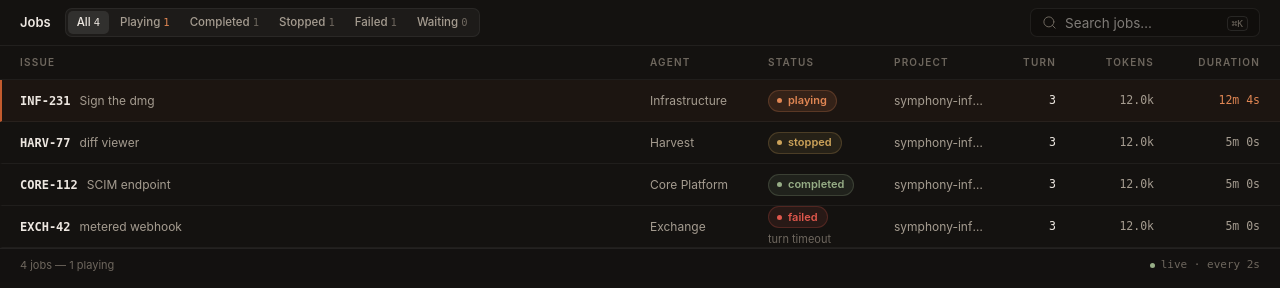
JobsList › searches over issue + title + agent
This screenshot has width=1280, height=288.
Type "scim" into the field with placeholder "Search jobs…".
click(1145, 22); type("scim")  # box [1030, 8, 1260, 37]
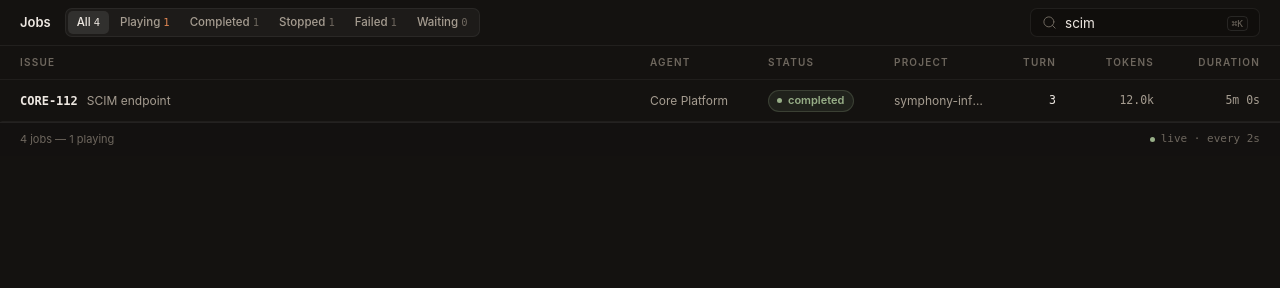
Check: the text "CORE-112" is shown, box [20, 92, 78, 110]
Check: the text "INF-231" is gone
